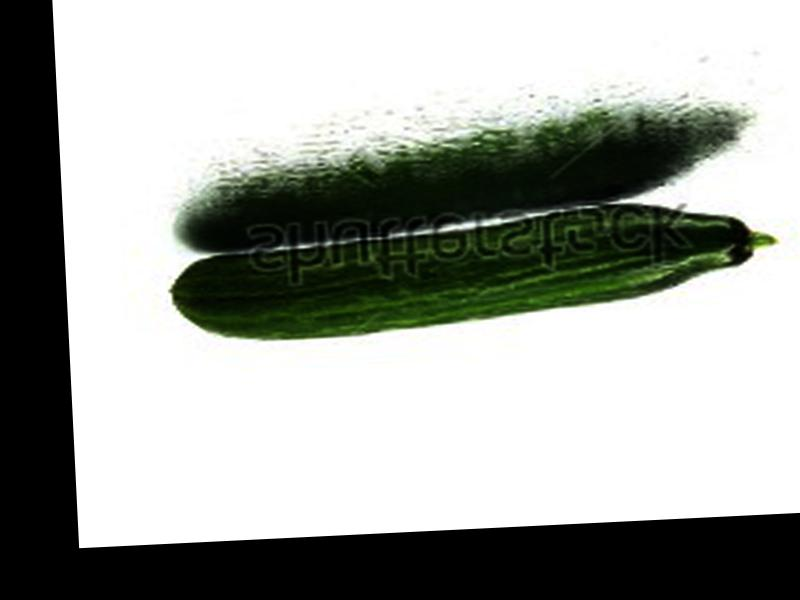Cucumber: (173, 196, 777, 346)
